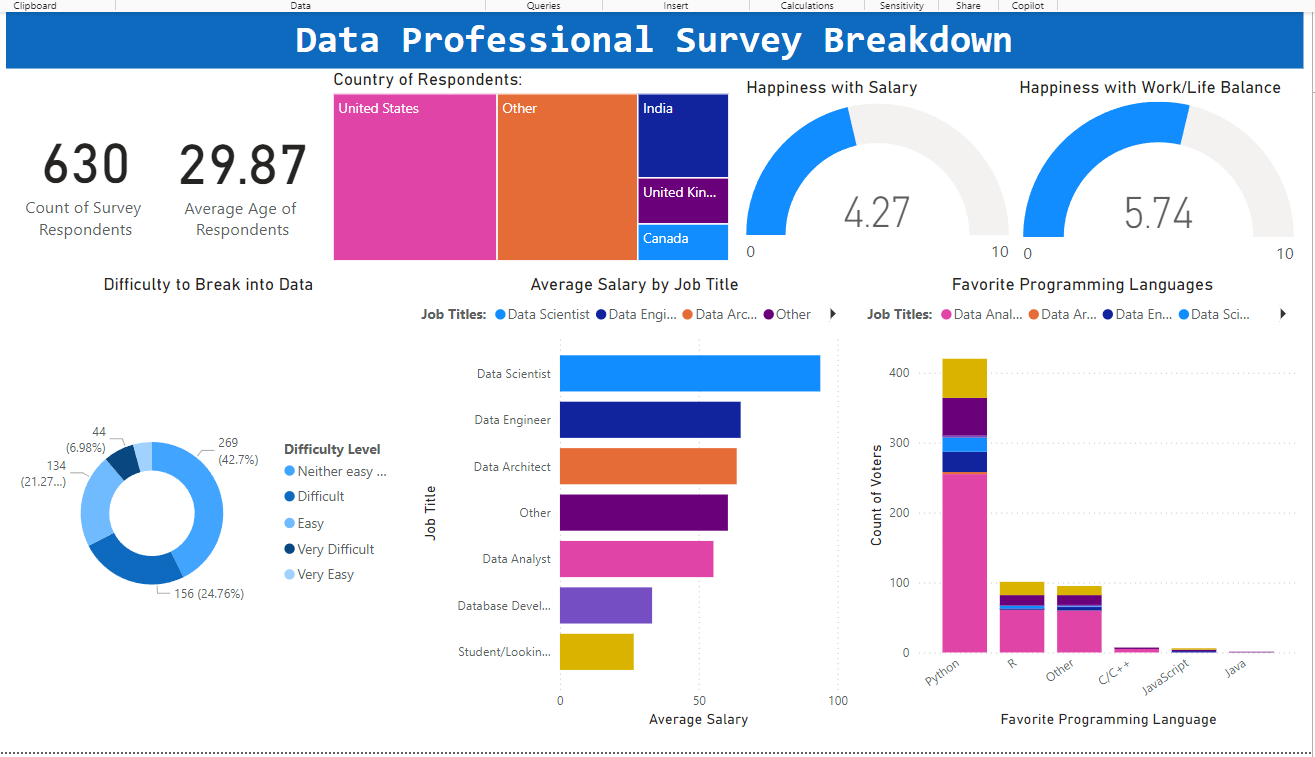

The page's visual inventory and layout, read from the dashboard file:
{"tool":"powerbi","page":{"name":"Page 1","canvas":[1280,720],"ordinal":0},"visuals":[{"type":"textbox","box":[9.7,0,1261.5,55.4],"z":0},{"type":"card","fields":{"Values":["Count(Data Professional Survey.Unique ID)"]},"box":[9.7,55.4,154.7,191.6],"z":1000},{"type":"card","fields":{"Values":["Avg(Data Professional Survey.Q10 - Current Age)"]},"box":[164.4,55.4,150.8,192.6],"z":2000},{"type":"barChart","title":"Average Salary by Job Title","fields":{"Category":["Data Professional Survey.Q1 - Which Title Best Fits your Current Role?.1.1"],"Y":["Avg(Data Professional Survey.Average Salary)"],"Series":["Data Professional Survey.Q1 - Which Title Best Fits your Current Role?.1.1"]},"box":[408.5,254.8,425,446.4],"z":3000},{"type":"columnChart","title":"Favorite Programming Languages","fields":{"Category":["Data Professional Survey.Q5 - Favorite Programming Language.1"],"Y":["CountNonNull(Data Professional Survey.Unique ID)"],"Series":["Data Professional Survey.Q1 - Which Title Best Fits your Current Role?.1.1"]},"box":[842.3,254.8,428.9,446.4],"z":4000},{"type":"treemap","title":"Country of Respondents:","fields":{"Group":["Data Professional Survey.Q11 - Which Country do you live in?.1"],"Values":["CountNonNull(Data Professional Survey.Q11 - Which Country do you live in?.1)"]},"box":[322.9,55.4,394.9,191.6],"z":5000},{"type":"gauge","title":"Happiness with Work/Life Balance","fields":{"Y":["Avg(Data Professional Survey.Q6 - How Happy are you in your Current Position with the following? (Work/Life Balance))"],"MinValue":["Min(Data Professional Survey.Q6 - How Happy are you in your Current Position with the following? (Work/Life Balance))1"],"MaxValue":["Max(Data Professional Survey.Q6 - How Happy are you in your Current Position with the following? (Work/Life Balance))2"]},"box":[990.2,63.2,281.1,191.6],"z":6000},{"type":"gauge","title":"Happiness with Salary","fields":{"Y":["Avg(Data Professional Survey.Q6 - How Happy are you in your Current Position with the following? (Salary))"],"MinValue":["Min(Data Professional Survey.Q6 - How Happy are you in your Current Position with the following? (Salary))1"],"MaxValue":["Max(Data Professional Survey.Q6 - How Happy are you in your Current Position with the following? (Salary))2"]},"box":[724.6,63.2,265.5,191.6],"z":7000},{"type":"donutChart","title":"Difficulty to Break into Data","fields":{"Category":["Data Professional Survey.Q7 - How difficult was it for you to break into Data?"],"Y":["CountNonNull(Data Professional Survey.Q7 - How difficult was it for you to break into Data?)"]},"box":[18.5,254.8,376.4,446.4],"z":8000}]}

Visuals, with their boxes on the page's 1280x720 design canvas (x1, y1, x2, y2). These are canvas units, not pixel positions in the 1315x757 screenshot, which may show the page scaled, cropped or inside an application window:
textbox: [left=10, top=0, right=1271, bottom=55]
card - Count(Data Professional Survey.Unique ID): [left=10, top=55, right=164, bottom=247]
card - Avg(Data Professional Survey.Q10 - Current Age): [left=164, top=55, right=315, bottom=248]
"Average Salary by Job Title" barChart: [left=408, top=255, right=834, bottom=701]
"Favorite Programming Languages" columnChart: [left=842, top=255, right=1271, bottom=701]
"Country of Respondents:" treemap: [left=323, top=55, right=718, bottom=247]
"Happiness with Work/Life Balance" gauge: [left=990, top=63, right=1271, bottom=255]
"Happiness with Salary" gauge: [left=725, top=63, right=990, bottom=255]
"Difficulty to Break into Data" donutChart: [left=18, top=255, right=395, bottom=701]
